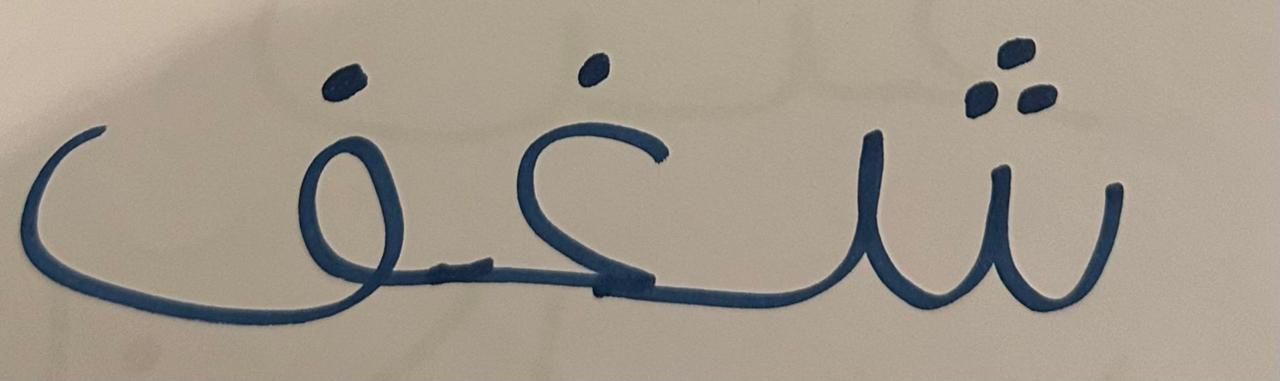feh: (3, 12, 429, 367)
ghain: (433, 9, 736, 371)
tah: (740, 3, 1194, 369)
